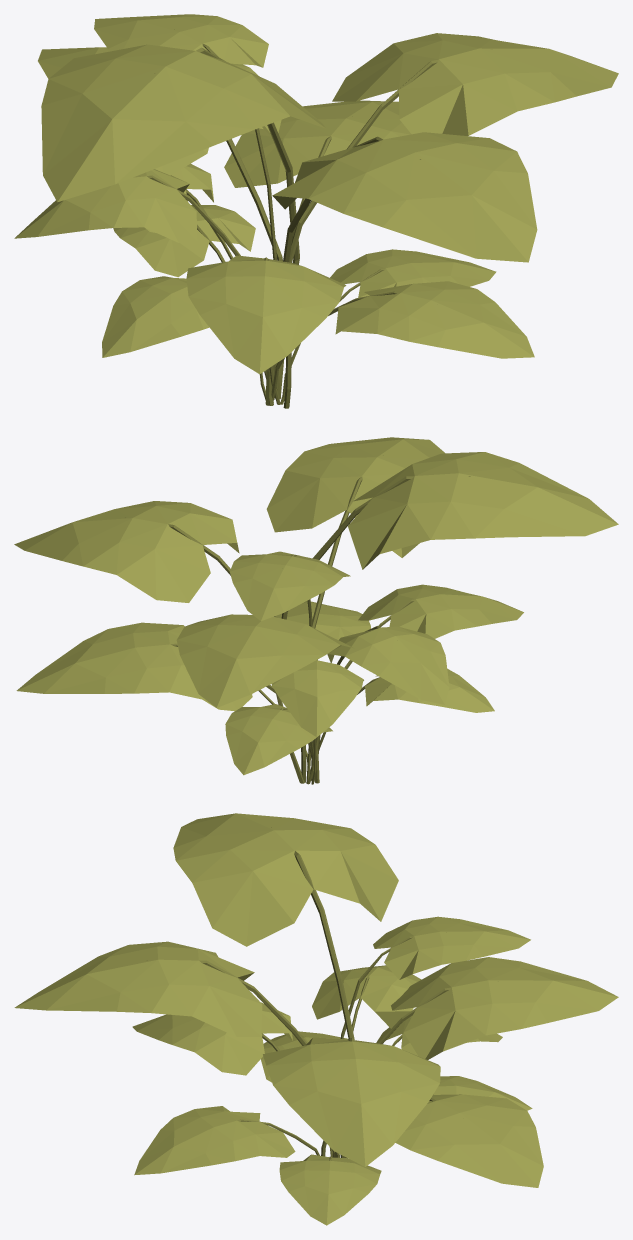
The model's file is SFHW_Plant_012.fbx.
3 views of the same model, one above another, from view 1: azimuth 30°, elevation 25°; view 2: azimuth 150°, elevation 25°; view 3: azimuth 270°, elevation 25° (orthographic). The views are drawn at different scales.
Parts seen in each view (by area): view 1: SFHW_Plant_012; view 2: SFHW_Plant_012; view 3: SFHW_Plant_012.
Part boxes in pixels (bbox=[...]): SFHW_Plant_012: bbox=[14, 14, 618, 408]; SFHW_Plant_012: bbox=[14, 437, 618, 784]; SFHW_Plant_012: bbox=[14, 813, 618, 1225].
Bounding box in the file's own units: 83.69 × 48.08 × 82.46.
